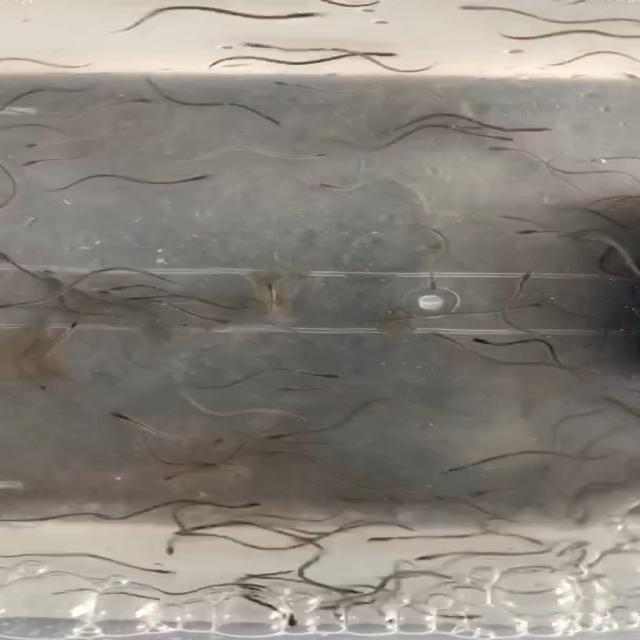active_glass_eel: (510, 109, 555, 136), (474, 145, 526, 168), (306, 175, 352, 200), (258, 608, 309, 630), (419, 324, 460, 348), (248, 114, 308, 130), (502, 298, 554, 316), (236, 40, 290, 56), (55, 313, 95, 334), (198, 312, 242, 331), (453, 330, 505, 346), (99, 404, 140, 424), (149, 463, 191, 482), (504, 264, 553, 280), (179, 171, 239, 184), (153, 538, 185, 562), (13, 137, 58, 154), (330, 584, 372, 602), (516, 223, 549, 245), (116, 87, 156, 105), (290, 145, 330, 162), (260, 425, 293, 445), (151, 566, 194, 581), (482, 130, 524, 145), (369, 46, 410, 61), (12, 156, 50, 172), (416, 550, 449, 568), (364, 530, 402, 545), (457, 484, 488, 502), (309, 366, 345, 381), (441, 462, 476, 477), (238, 497, 268, 514), (265, 380, 302, 393), (95, 286, 125, 302), (287, 10, 326, 22)
